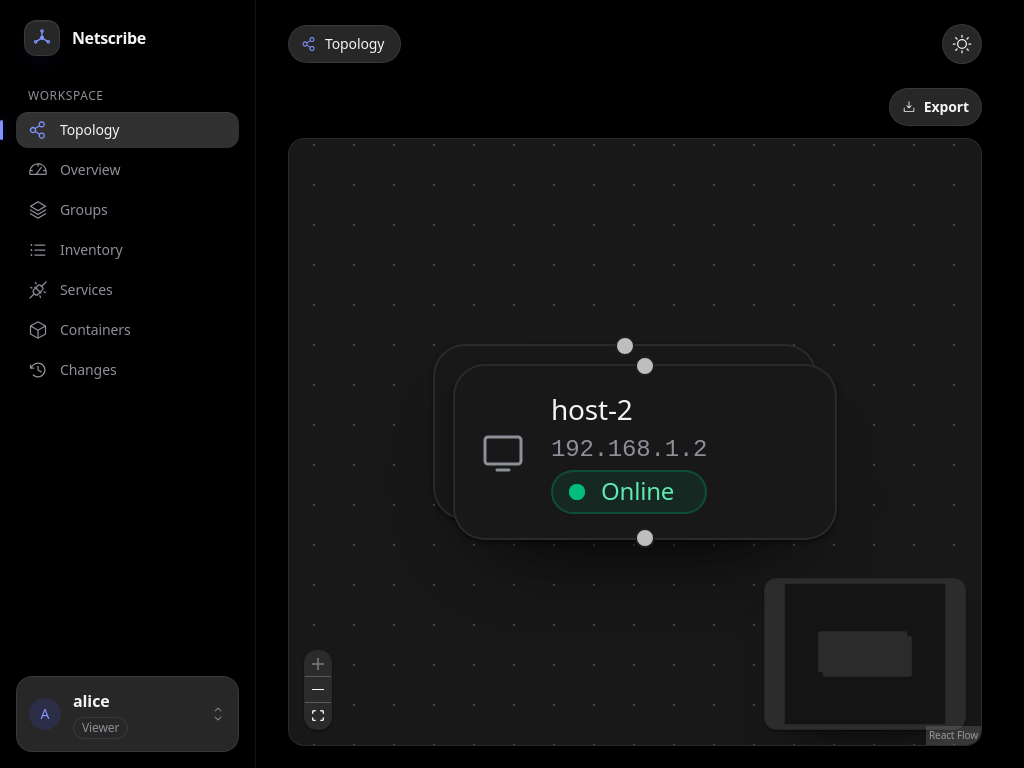
Topology page › offers the exports to everyone who may export, and nothing to add to a viewer
What coordinates should you click on to do the following:
click the button "Export"
I would click on:
 (935, 107)
Its box is x1=889 y1=88 x2=982 y2=126.
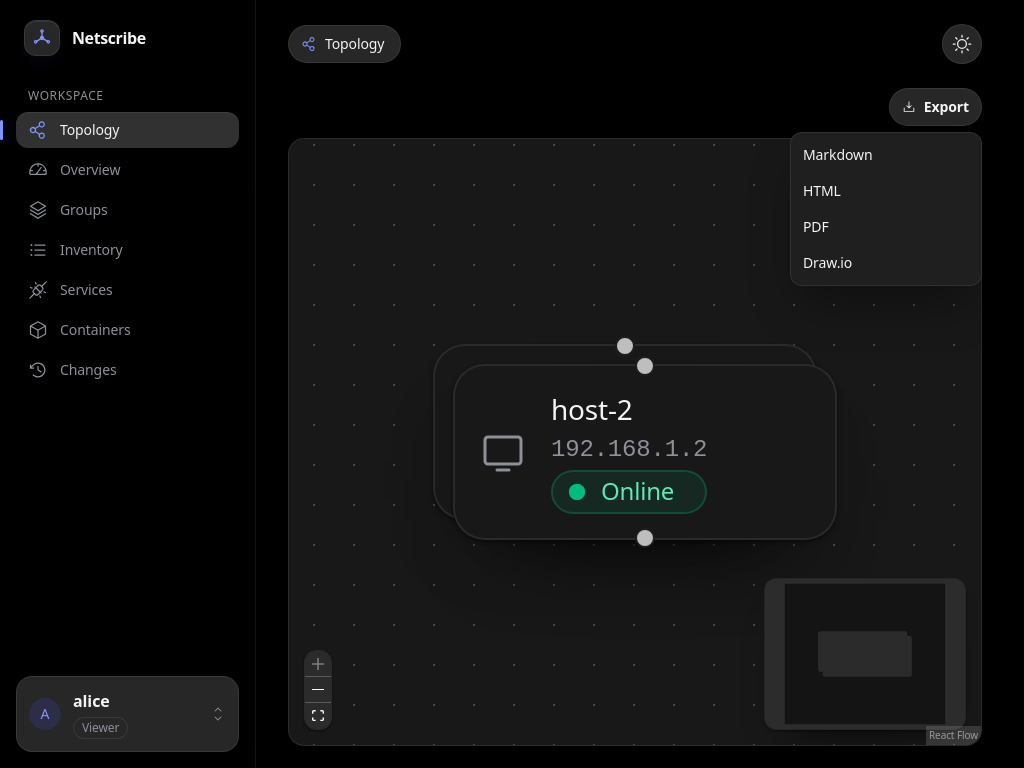
Expected: the menu items read "Markdown", "HTML", "PDF", "Draw.io", in this order, x1=803 y1=145 x2=872 y2=164; x1=803 y1=181 x2=841 y2=200; x1=803 y1=217 x2=829 y2=236; x1=803 y1=253 x2=852 y2=272
